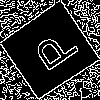P: (24, 25, 81, 80)
